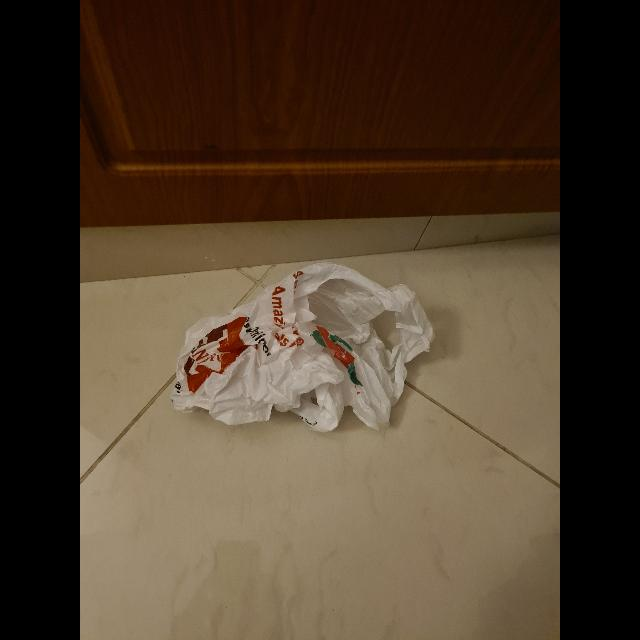plastic_bag: (166, 272, 448, 432)
